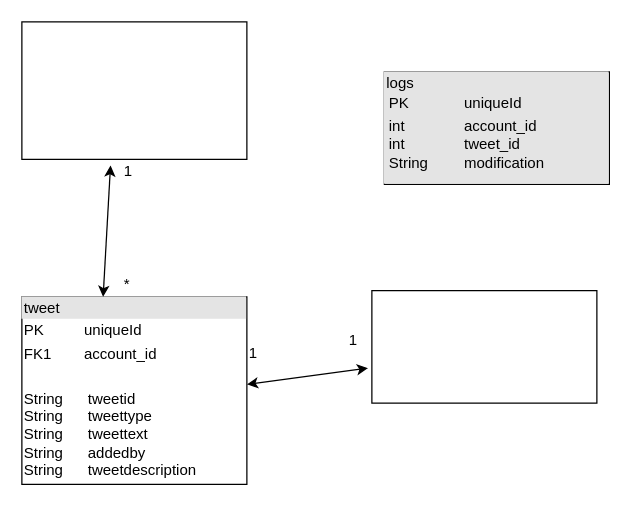
The diagram is 631 pixels wide and 506 high, and some of its shapes have lost their labels. Each missing label, with the box of its shape:
account PK uniqueId String String String String name username urole password: (21, 21, 247, 159)
votes PK uniqueId FK1 tweet_id int int affirm oppose: (371, 289, 597, 403)
